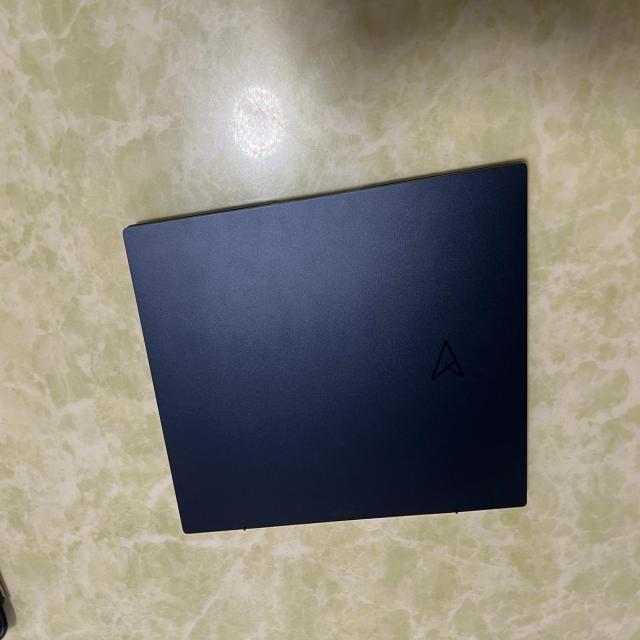laptop: (121, 157, 529, 534)
